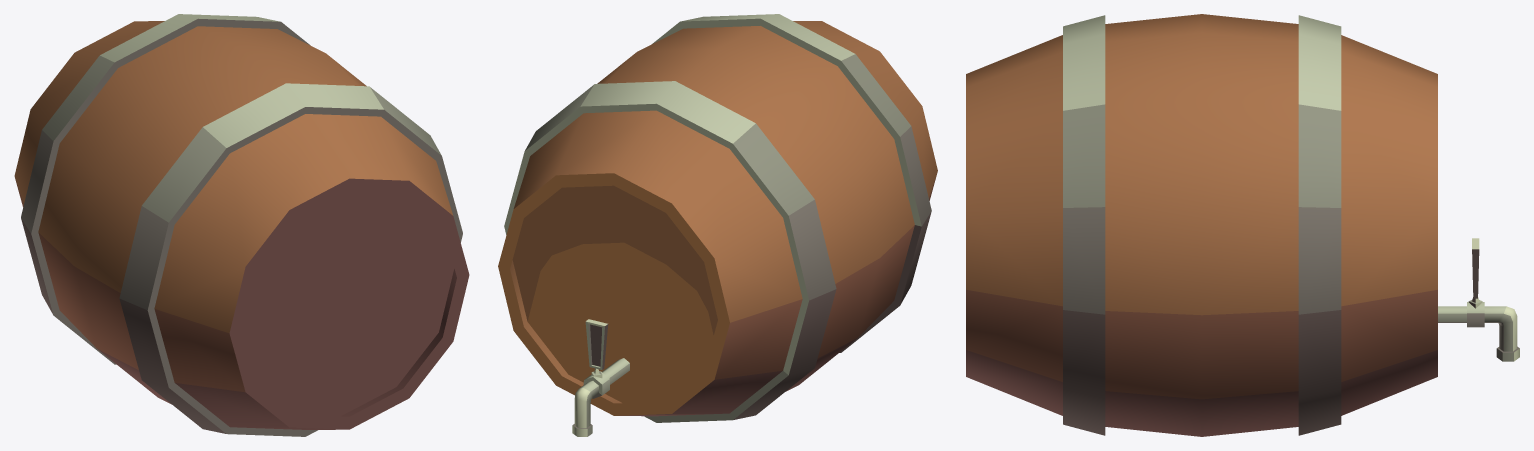
Rendered from Barril_01.FBX.
3 views of the same model, side by side, from view 1: azimuth 30°, elevation 25°; view 2: azimuth 150°, elevation 25°; view 3: azimuth 270°, elevation 25° (orthographic). The views are drawn at different scales.
Visible parts, largest first — view 1: Barril_01; view 2: Barril_01; view 3: Barril_01.
Part boxes in pixels (x1,y1,x2,y2): Barril_01: (14, 14, 469, 436); Barril_01: (498, 14, 937, 436); Barril_01: (966, 14, 1519, 436).
Size of the model in its own units: 90 by 90 by 117.
